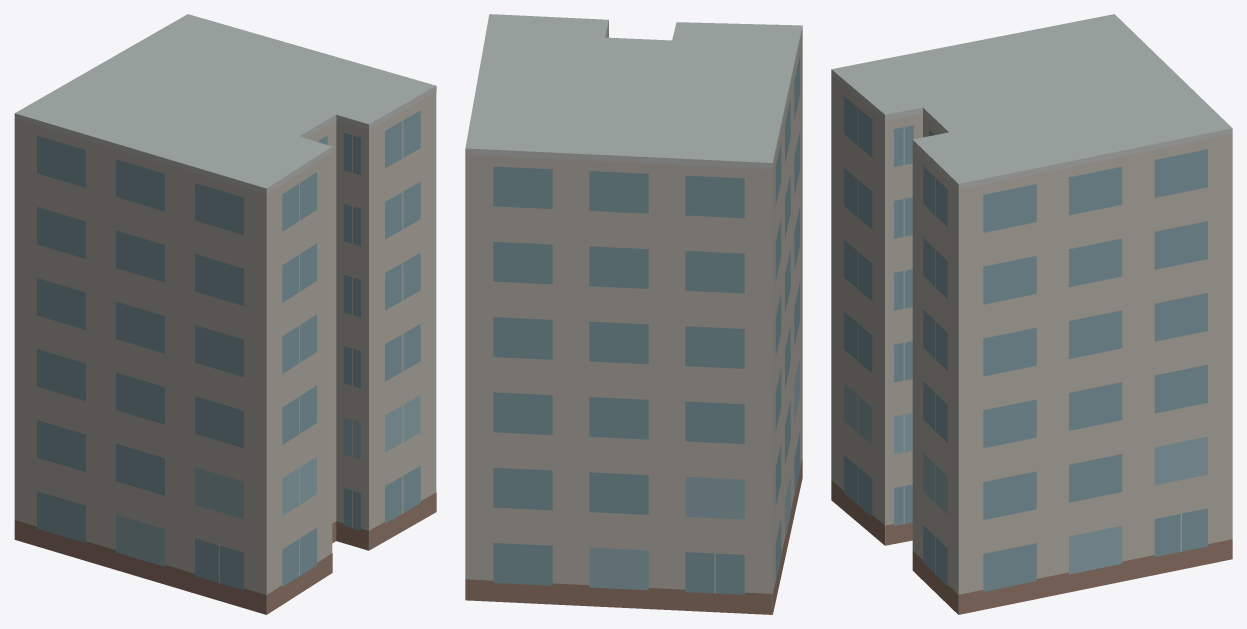
File: survey-upis-32738343.glb
The picture shows the model from 3 angles, left to right: view 1: azimuth 30°, elevation 25°; view 2: azimuth 150°, elevation 25°; view 3: azimuth 270°, elevation 25°; orthographic projection. The views are drawn at different scales.
Visible parts, largest first — view 1: survey-upis-32738343.tmp; view 2: survey-upis-32738343.tmp; view 3: survey-upis-32738343.tmp.
Part boxes in pixels (x1,y1,x2,y2): survey-upis-32738343.tmp: [14, 14, 436, 614]; survey-upis-32738343.tmp: [465, 14, 802, 614]; survey-upis-32738343.tmp: [831, 14, 1232, 614].
Bounding box in the file's own units: 14.98 × 17.7 × 14.95.
